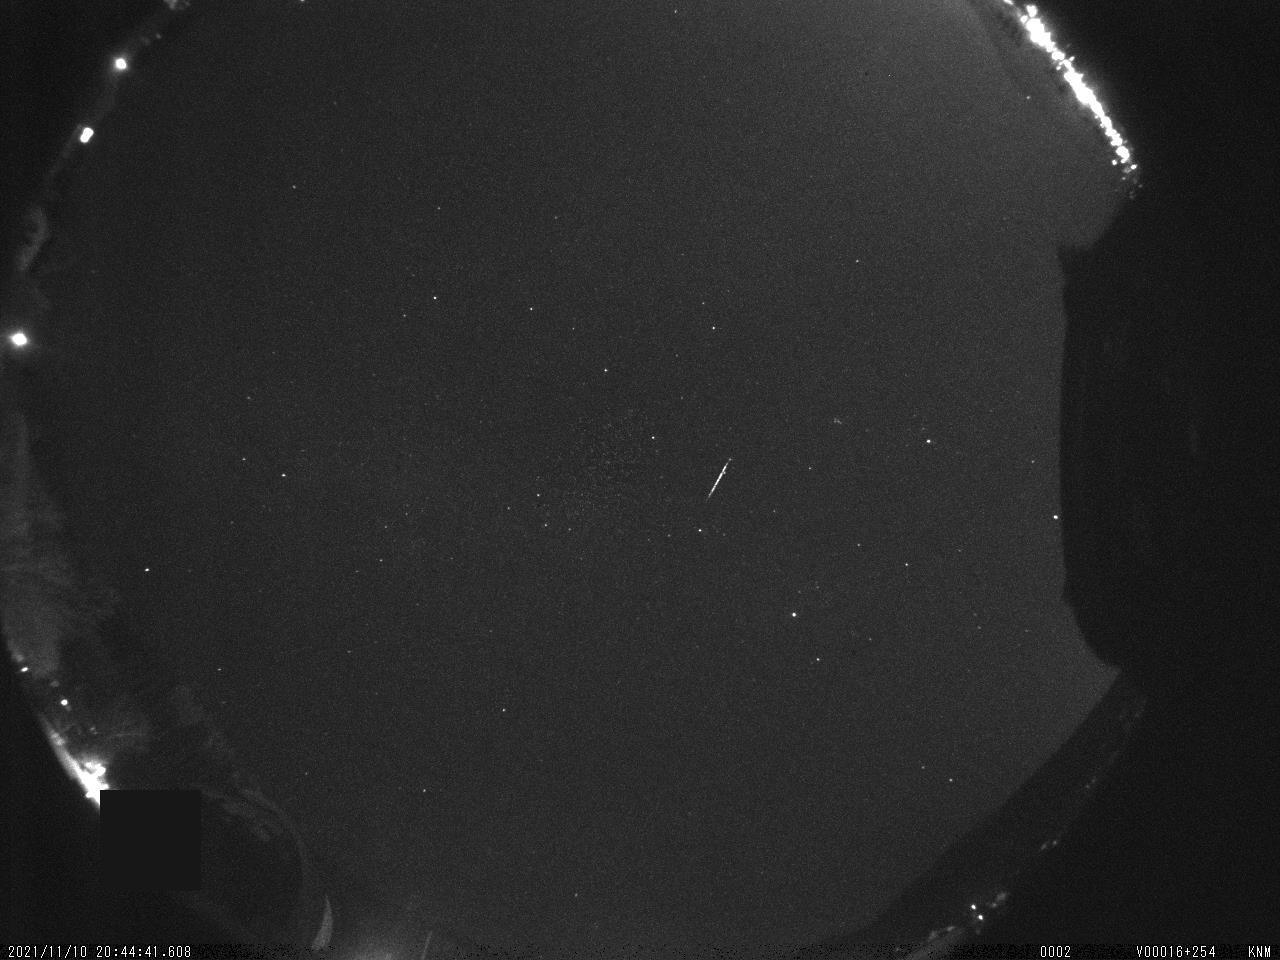Meteor: (703, 455, 735, 501)
